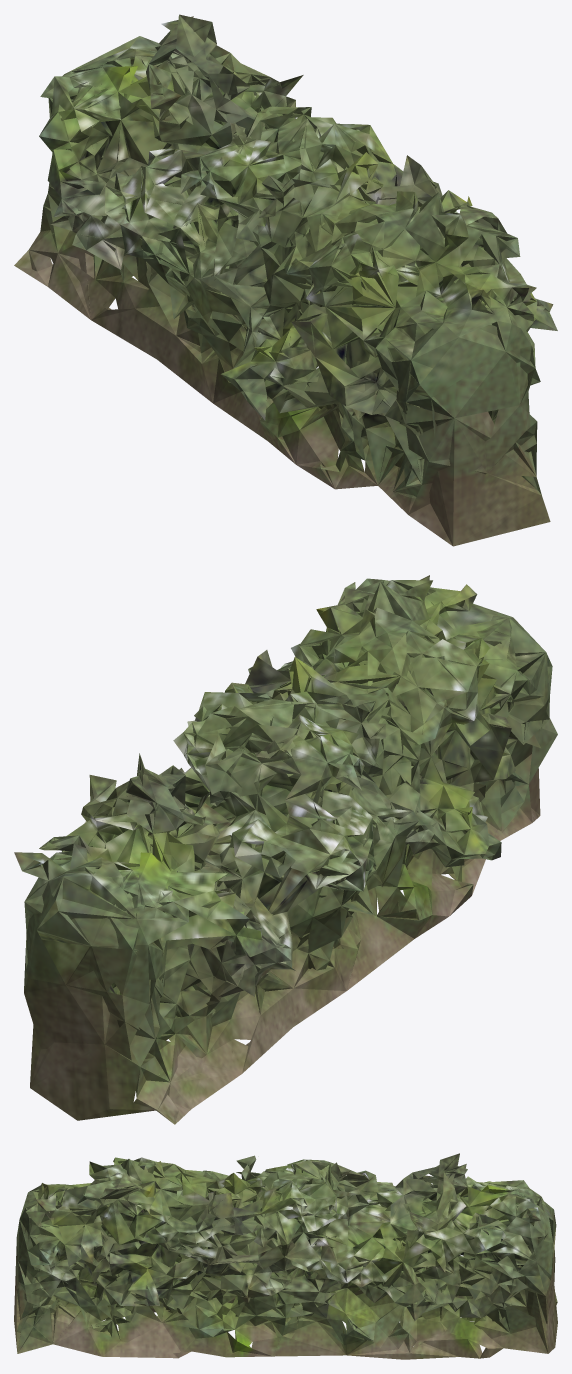
File: hedge.obj
The picture shows the model from 3 angles, top to bottom: view 1: azimuth 30°, elevation 25°; view 2: azimuth 150°, elevation 25°; view 3: azimuth 270°, elevation 25°; orthographic projection. The views are drawn at different scales.
Parts seen in each view (by area): view 1: hedge; view 2: hedge; view 3: hedge.
Part boxes in pixels (left/top/right/bottom): hedge: left=14, top=14, right=557, bottom=546; hedge: left=14, top=575, right=557, bottom=1124; hedge: left=14, top=1153, right=557, bottom=1359.
Size of the model in its own units: 2.84 by 3.19 by 8.
Materials: 1 (1 with a texture image).
